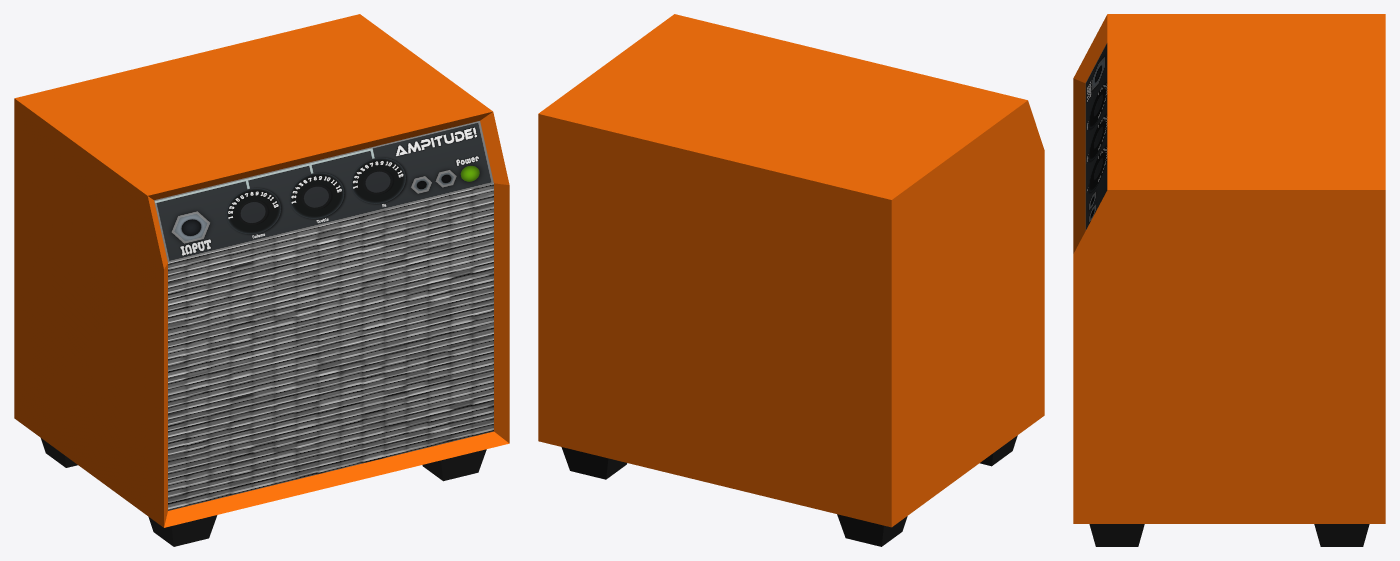
The model's file is Amp_D.FBX.
3 renders of one model, left to right at view 1: azimuth 30°, elevation 25°; view 2: azimuth 150°, elevation 25°; view 3: azimuth 270°, elevation 25°, orthographic. The views are drawn at different scales.
Visible parts, largest first — view 1: Amp; view 2: Amp; view 3: Amp.
Boxes of the visible parts, x1,y1,x2,y2 form: Amp: (14, 14, 509, 546); Amp: (538, 14, 1044, 546); Amp: (1073, 14, 1385, 546).
Bounding box in the file's own units: 55.04 × 53.57 × 41.28.
